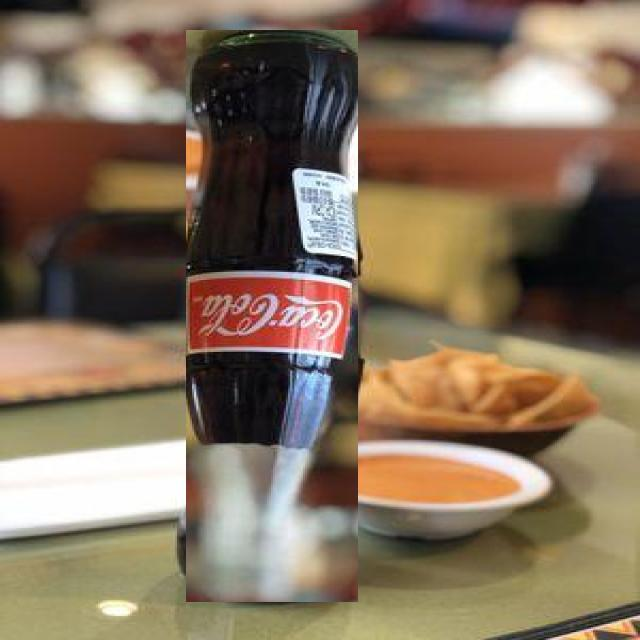coca-cola: (186, 30, 358, 602)
